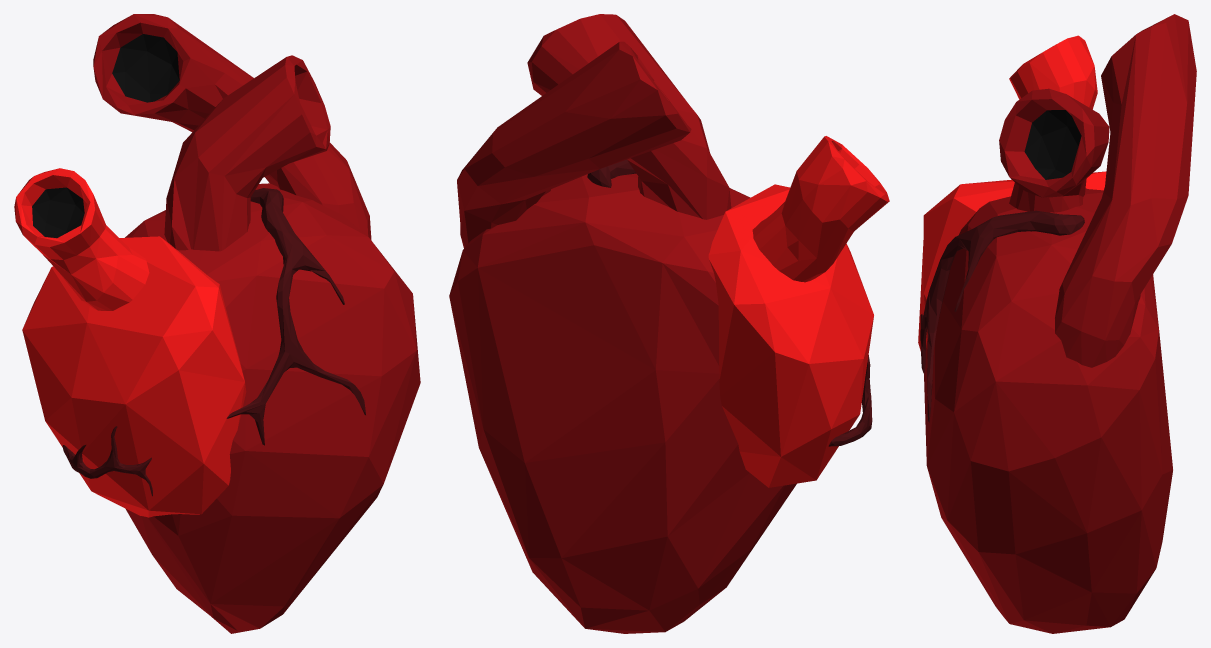
The model's file is heart.obj.
3 renders of one model, left to right at view 1: azimuth 30°, elevation 25°; view 2: azimuth 150°, elevation 25°; view 3: azimuth 270°, elevation 25°, orthographic. The views are drawn at different scales.
Parts seen in each view (by area): view 1: Cuore; view 2: Cuore; view 3: Cuore.
Boxes of the visible parts, x1,y1,x2,y2 form: Cuore: (14, 14, 420, 633); Cuore: (449, 14, 889, 633); Cuore: (918, 14, 1196, 633).
Bounding box in the file's own units: 3.91 × 5.81 × 2.47.
